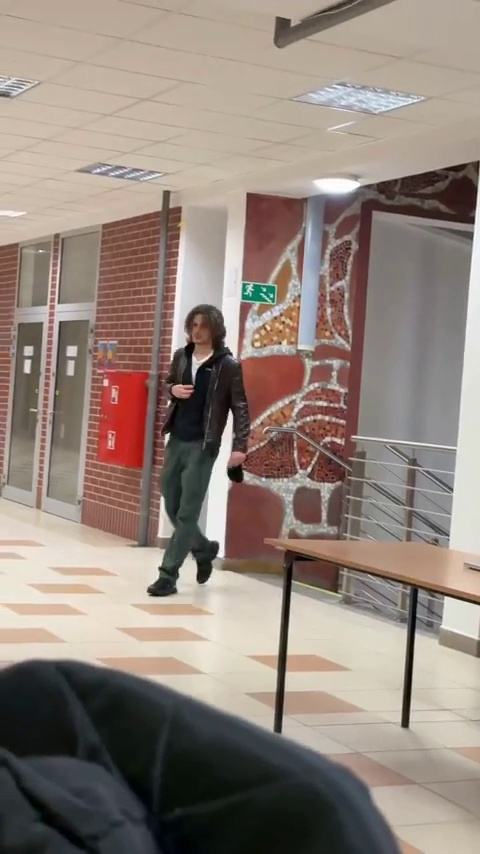no vest: (155, 300, 250, 595)
